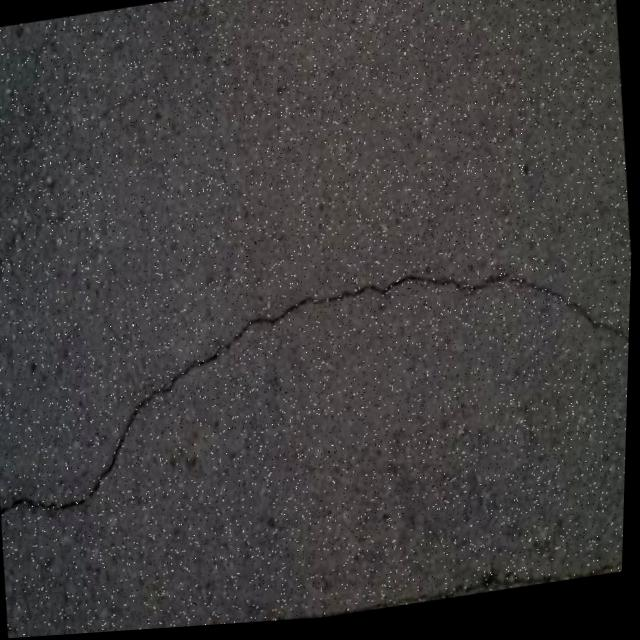Crack: (0, 237, 634, 539)
